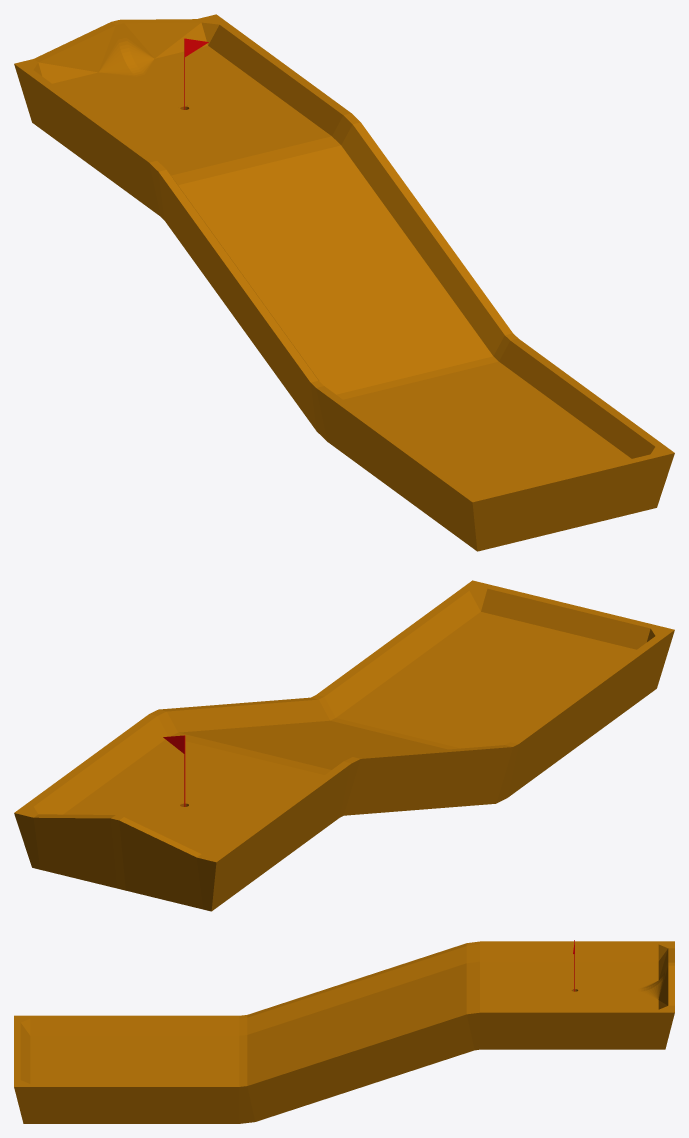
File: level_11.glb
3 views of the same model, one above another, from view 1: azimuth 30°, elevation 25°; view 2: azimuth 150°, elevation 25°; view 3: azimuth 270°, elevation 25° (orthographic). The views are drawn at different scales.
Parts seen in each view (by area): view 1: green; view 2: green; view 3: green.
Part boxes in pixels (bbox=[...]): green: bbox=[14, 14, 674, 551]; green: bbox=[14, 580, 674, 911]; green: bbox=[14, 941, 674, 1123].
Size of the model in its own units: 2.48 by 2.47 by 9.73.
